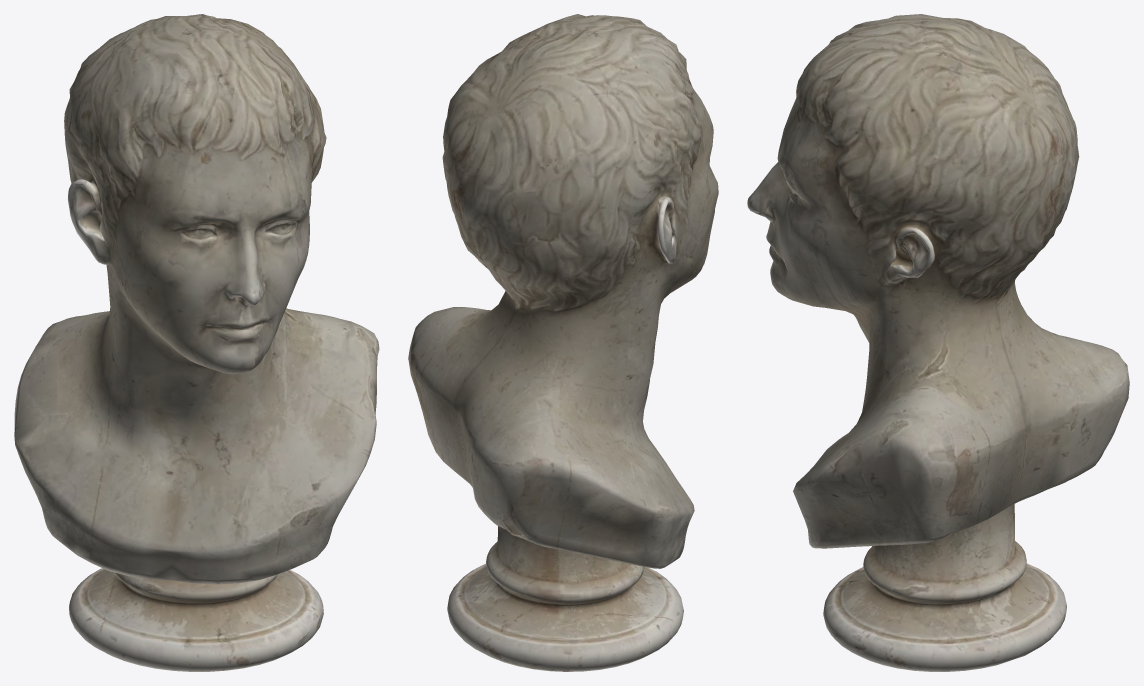
Rendered from marble_bust_01.glb.
3 renders of one model, left to right at view 1: azimuth 30°, elevation 25°; view 2: azimuth 150°, elevation 25°; view 3: azimuth 270°, elevation 25°, orthographic. The views are drawn at different scales.
Visible parts, largest first — view 1: marble_bust_01; view 2: marble_bust_01; view 3: marble_bust_01.
Part boxes in pixels (bbox=[...]): marble_bust_01: bbox=[14, 14, 379, 671]; marble_bust_01: bbox=[408, 14, 718, 671]; marble_bust_01: bbox=[747, 14, 1129, 671].
Size of the model in its own units: 0.2718 by 0.5148 by 0.2997.
Materials: 1 (1 with a texture image).
